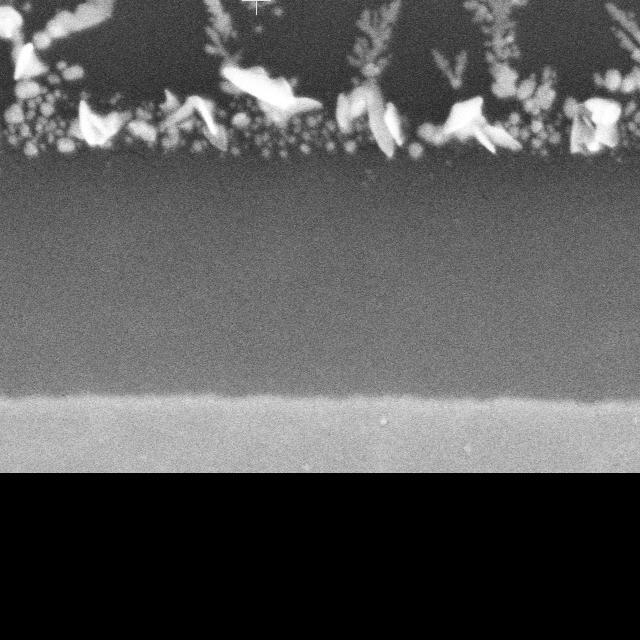Dendrite: (0, 0, 83, 156), (221, 64, 340, 155), (122, 90, 249, 157), (464, 0, 527, 97), (492, 66, 560, 148), (417, 97, 514, 153), (337, 81, 404, 157), (348, 0, 402, 85), (594, 2, 640, 95), (564, 97, 621, 153), (203, 0, 241, 64), (79, 97, 128, 146), (432, 49, 466, 91)
